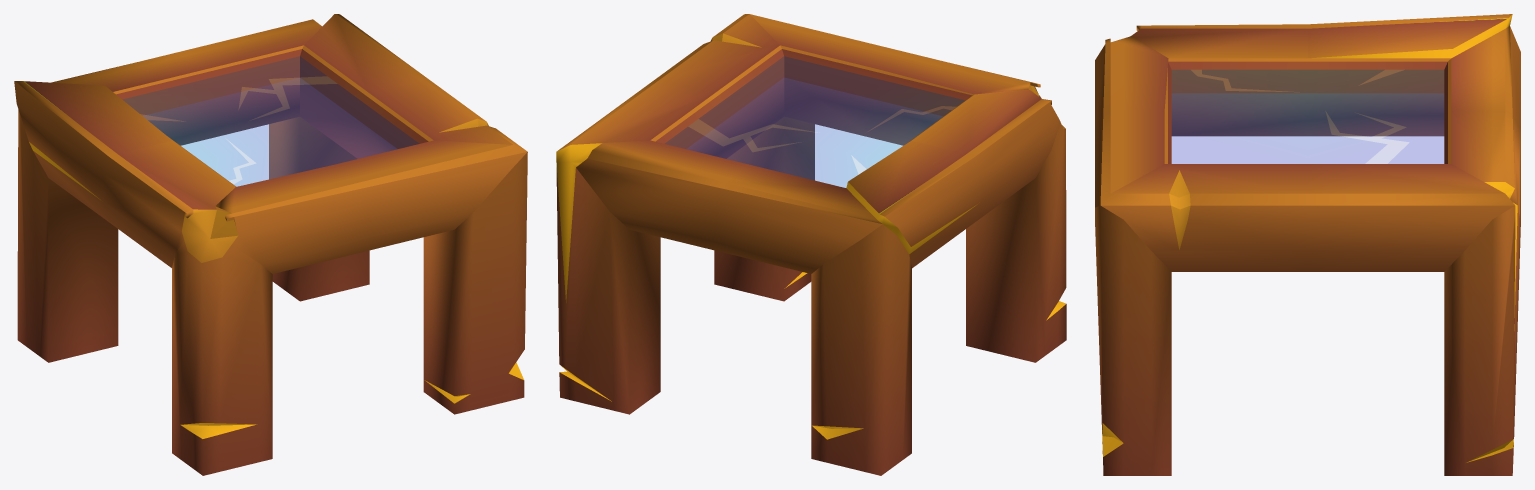
The model's file is CoffeeTableSmall_Damaged.fbx.
The picture shows the model from 3 angles, left to right: view 1: azimuth 30°, elevation 25°; view 2: azimuth 150°, elevation 25°; view 3: azimuth 270°, elevation 25°; orthographic projection. The views are drawn at different scales.
Parts seen in each view (by area): view 1: Tablev4_Damage; view 2: Tablev4_Damage; view 3: Tablev4_Damage.
Boxes of the visible parts, bbox=[...] form: Tablev4_Damage: bbox=[14, 14, 527, 475]; Tablev4_Damage: bbox=[556, 14, 1066, 475]; Tablev4_Damage: bbox=[1095, 14, 1520, 475].
Bounding box in the file's own units: 2.1 × 1.55 × 2.08.
